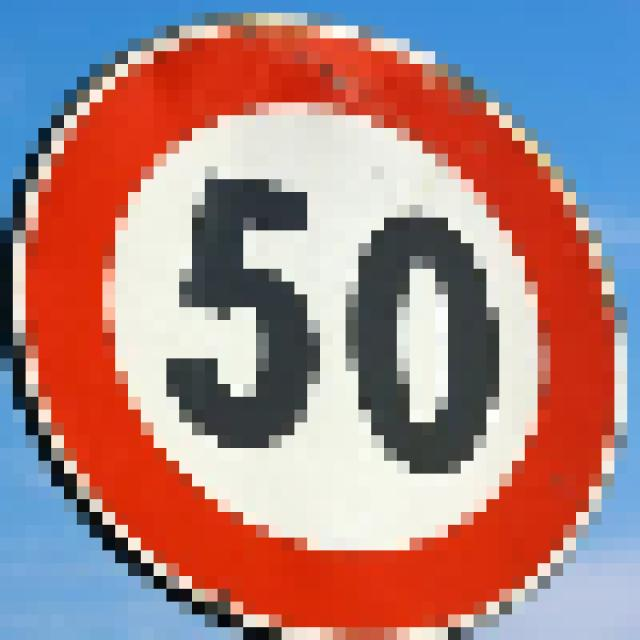Limite-50: (19, 15, 629, 640)
